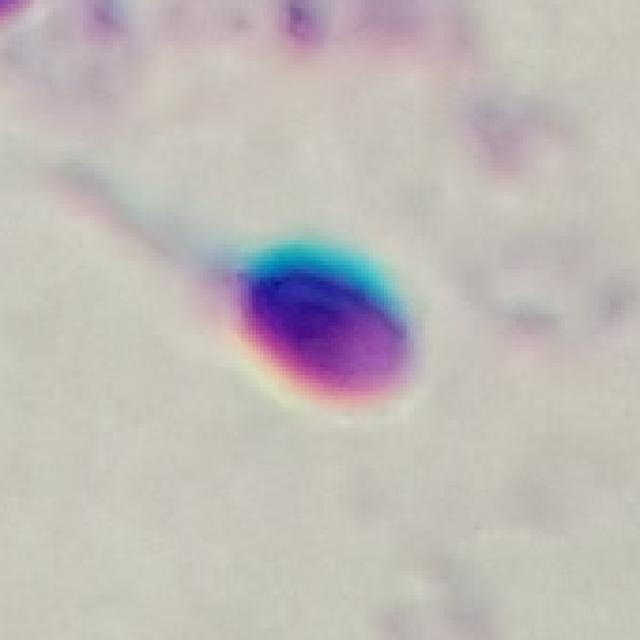normal sperm: (129, 212, 420, 416)
